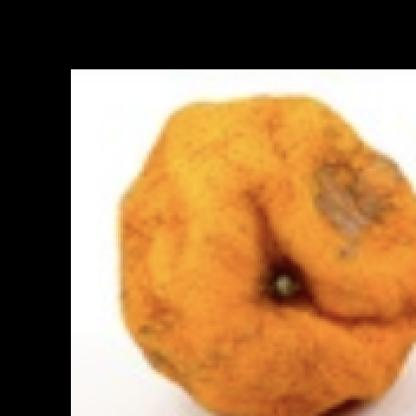rotten: (117, 87, 416, 415)
